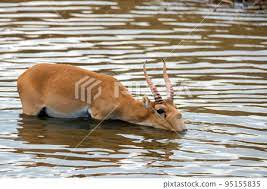saiga: (16, 56, 190, 146)
